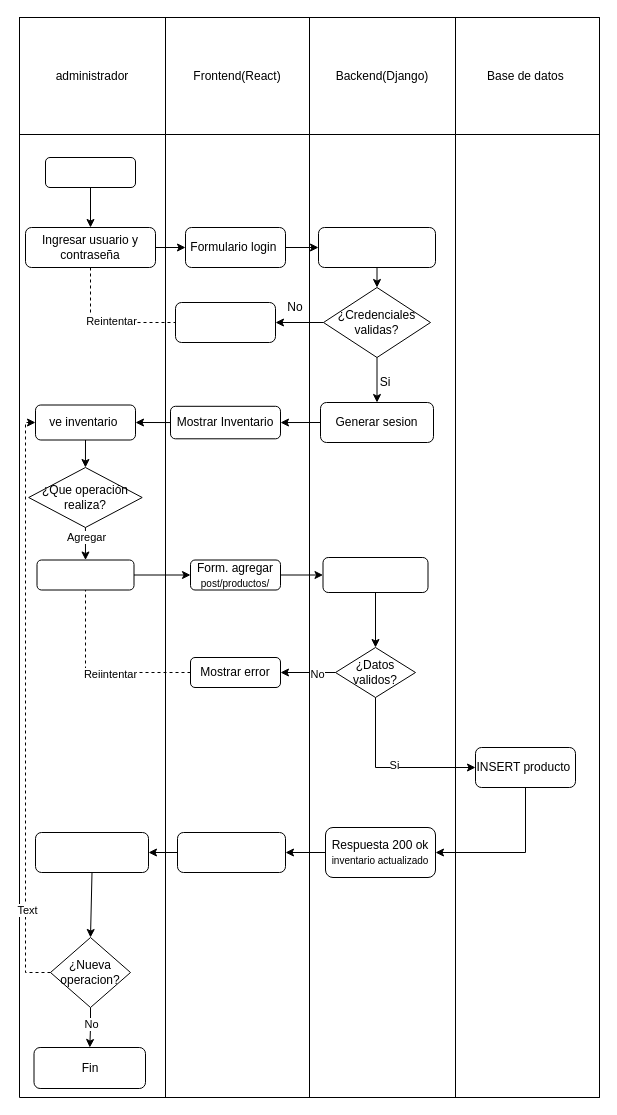
Image size: 617x1115. Some labels were removed from this diagram. Each missing label, with the centre of its shape:
"Autentica usuario" belongs at (x=377, y=247).
"Ingresar datos" belongs at (x=85, y=574).
"Inicio" belongs at (x=90, y=172).
"Mostrar error login" belongs at (x=225, y=322).
"Refresca lista" belongs at (x=231, y=852).
"validar campos serializar Django" belongs at (x=375, y=574).
"Ver inventario actualizado" belongs at (x=91, y=852).
